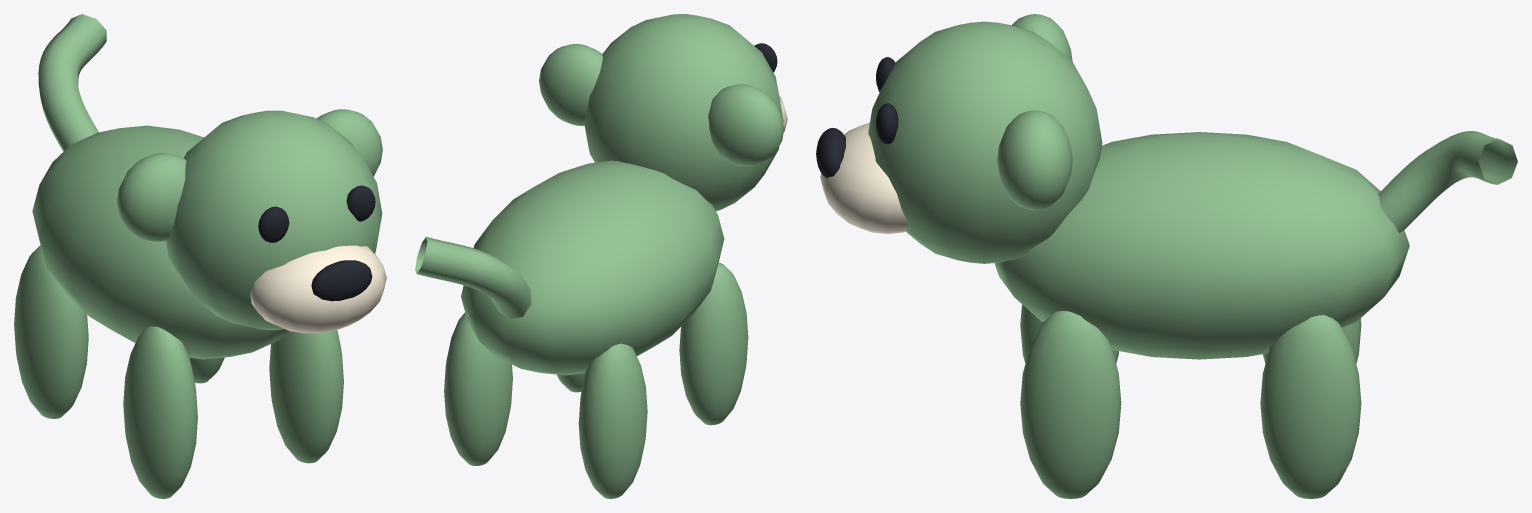
The model's file is word-frog.glb.
3 renders of one model, left to right at view 1: azimuth 30°, elevation 25°; view 2: azimuth 150°, elevation 25°; view 3: azimuth 270°, elevation 25°, orthographic. The views are drawn at different scales.
Visible parts, largest first — view 1: animal head, round animal body, little paw, little paw.001, little paw.002, muzzle, tail, animal ear, animal ear.001, nose, eye, eye.001 (+1 smaller); view 2: round animal body, animal head, little paw.001, little paw, little paw.003, animal ear, tail, animal ear.001; view 3: round animal body, animal head, little paw.002, little paw.003, tail, animal ear.001, muzzle, nose, animal ear, little paw, eye.001.
Boxes of the visible parts, box(x1,y1,x2,y2) form: animal head: box(166, 110, 382, 329); round animal body: box(32, 125, 288, 359); little paw: box(123, 326, 197, 498); little paw.001: box(14, 245, 88, 418); little paw.002: box(269, 330, 343, 463); muzzle: box(250, 245, 386, 333); tail: box(38, 14, 106, 151); animal ear: box(117, 153, 186, 241); animal ear.001: box(316, 109, 382, 176); nose: box(311, 260, 372, 301); eye: box(258, 206, 289, 242); eye.001: box(346, 185, 375, 221); round animal body: box(461, 160, 724, 375); animal head: box(584, 14, 783, 210); little paw.001: box(578, 343, 647, 498); little paw: box(679, 263, 748, 425); little paw.003: box(444, 312, 512, 465); animal ear: box(708, 84, 783, 166); tail: box(415, 237, 531, 318); animal ear.001: box(539, 44, 602, 125); round animal body: box(994, 132, 1409, 359); animal head: box(868, 21, 1102, 263); little paw.002: box(1020, 311, 1121, 498); little paw.003: box(1260, 315, 1361, 498); tail: box(1378, 131, 1517, 232); animal ear.001: box(997, 110, 1072, 210); muzzle: box(820, 122, 907, 233); nose: box(816, 128, 845, 178); animal ear: box(1012, 14, 1072, 61); little paw: box(1020, 304, 1118, 363); eye.001: box(876, 103, 898, 144).
Bounding box in the file's own units: 0.78 × 1.12 × 1.67.
